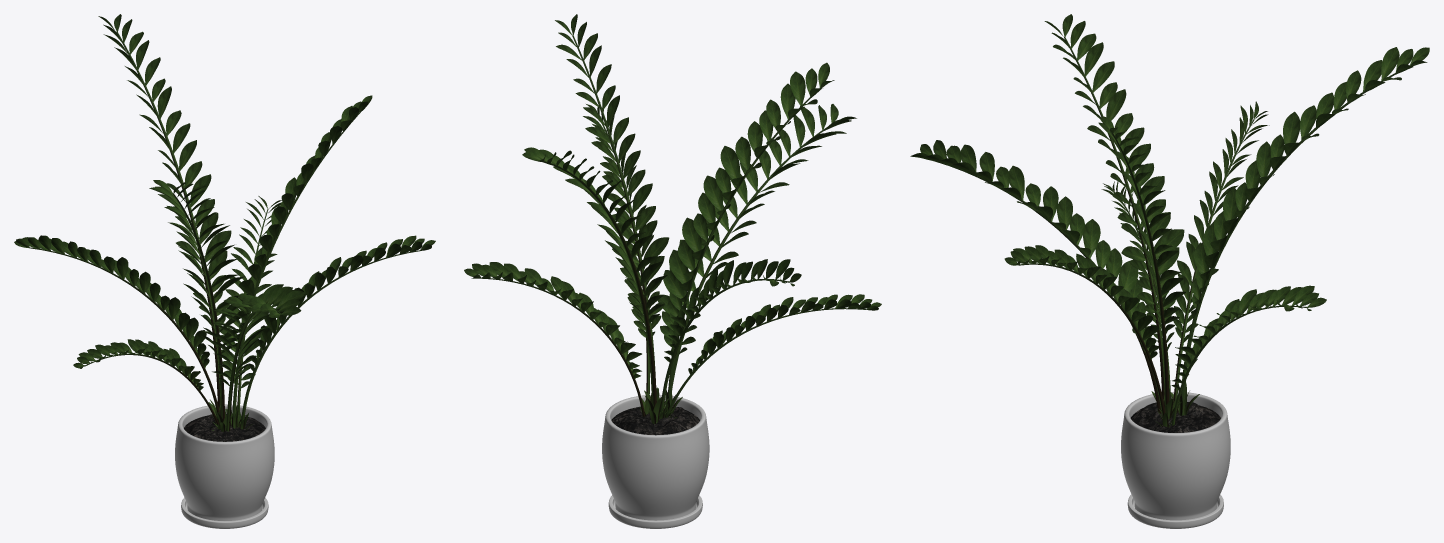
The model's file is houseplant01.gltf.
The picture shows the model from 3 angles, left to right: view 1: azimuth 30°, elevation 25°; view 2: azimuth 150°, elevation 25°; view 3: azimuth 270°, elevation 25°; orthographic projection. The views are drawn at different scales.
Visible parts, largest first — view 1: cgaxis_plants_02_02; view 2: cgaxis_plants_02_02; view 3: cgaxis_plants_02_02.
Boxes of the visible parts, x1,y1,x2,y2 form: cgaxis_plants_02_02: [14, 14, 435, 528]; cgaxis_plants_02_02: [464, 14, 881, 528]; cgaxis_plants_02_02: [910, 14, 1429, 528].
Bounding box in the file's own units: 0.6384 × 0.7973 × 0.822.
Materials: 1 (1 with a texture image).
